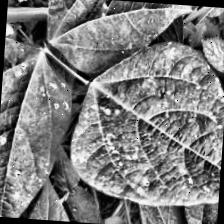Bean Rust: (63, 38, 224, 224), (0, 36, 73, 220), (45, 0, 191, 81)
